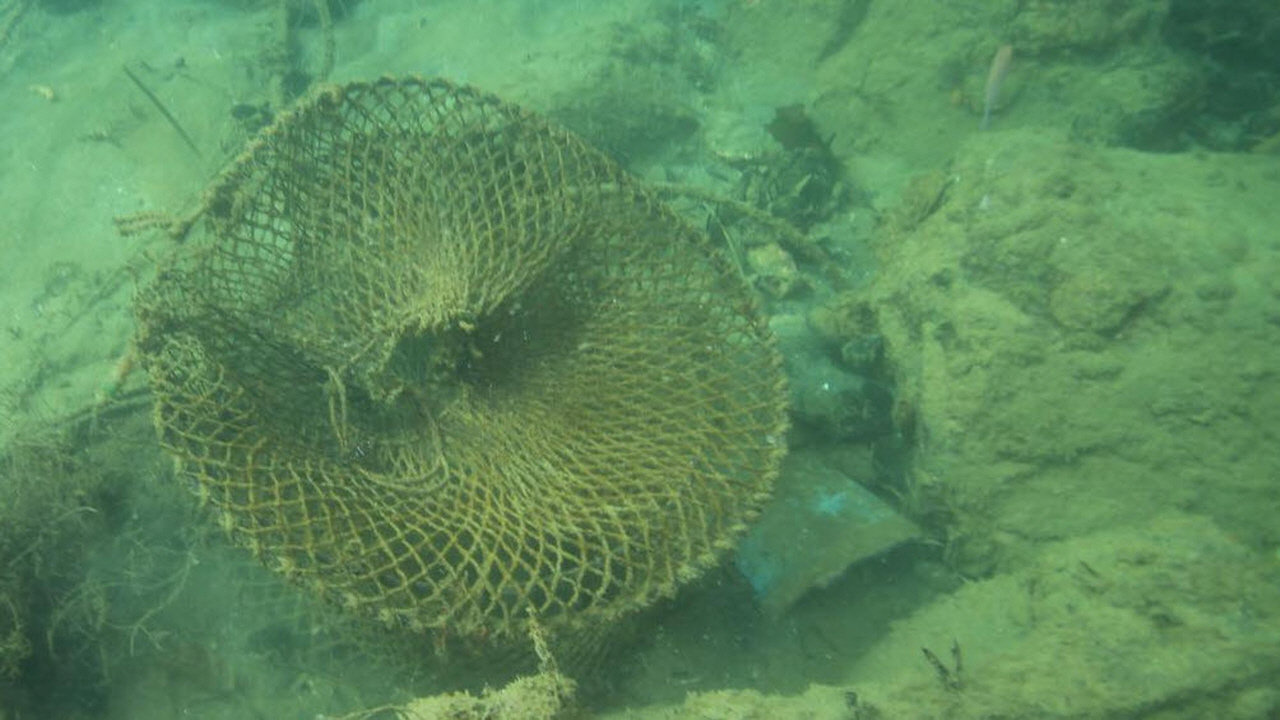circular fish trap: (146, 71, 790, 689)
